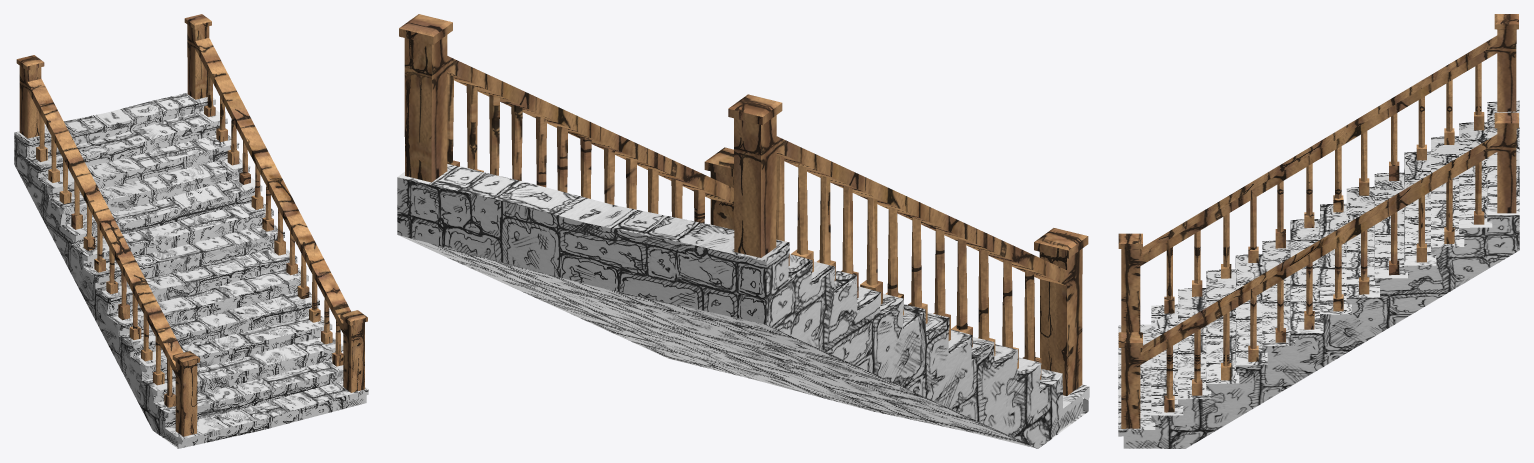
Rendered from stairs1.glb.
3 renders of one model, left to right at view 1: azimuth 30°, elevation 25°; view 2: azimuth 150°, elevation 25°; view 3: azimuth 270°, elevation 25°, orthographic. The views are drawn at different scales.
Parts seen in each view (by area): view 1: Staire; view 2: Staire; view 3: Staire.
Part boxes in pixels (x1,y1,x2,y2): Staire: (14,14,368,448); Staire: (397,14,1089,448); Staire: (1118,14,1519,448).
Size of the model in its own units: 1.55 by 2.14 by 2.38.
Materials: 2 (2 with a texture image).
